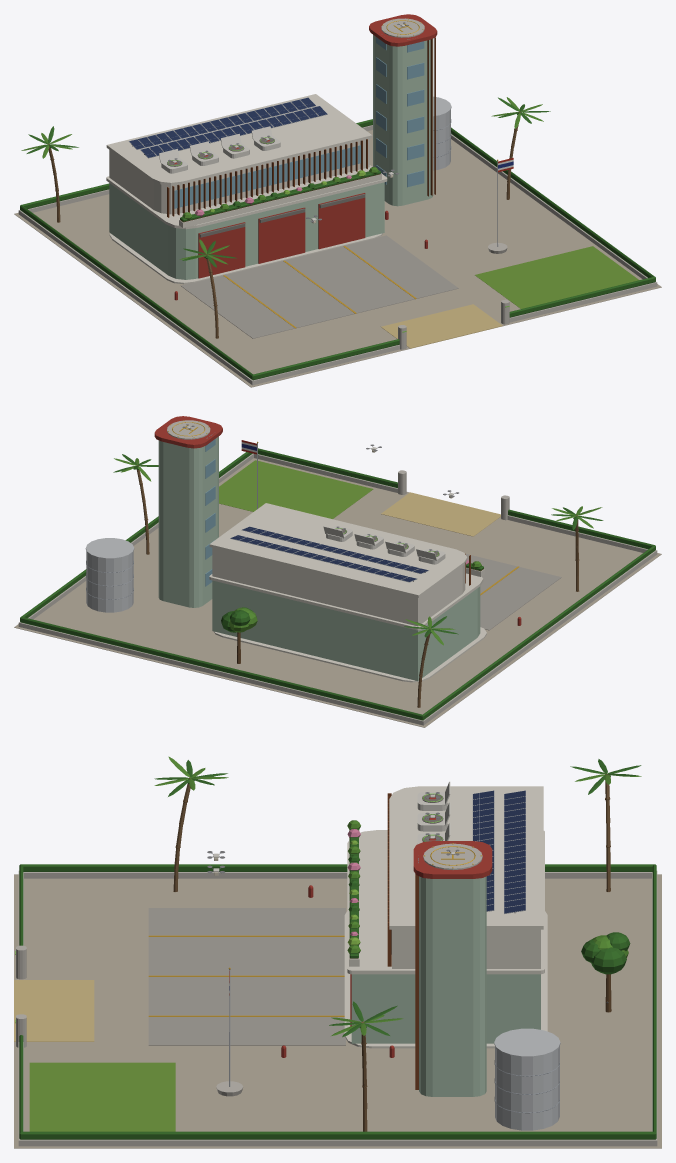
The model's file is fire.glb.
3 views of the same model, one above another, from view 1: azimuth 30°, elevation 25°; view 2: azimuth 150°, elevation 25°; view 3: azimuth 270°, elevation 25° (orthographic). The views are drawn at different scales.
Visible parts, largest first — view 1: body; view 2: body; view 3: body.
Part boxes in pixels (<box>): body: <box>14,14,661,387</box>; body: <box>14,416,661,727</box>; body: <box>14,756,661,1148</box>.
Bounding box in the file's own units: 50.32 × 18.87 × 47.9.
